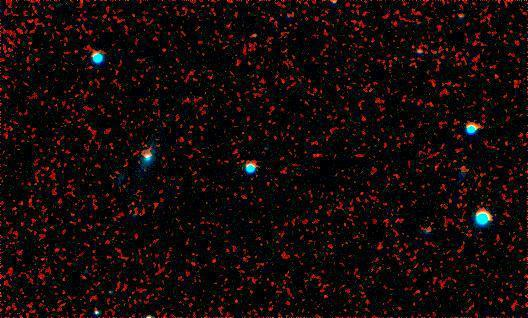star: (82, 297, 112, 318)
